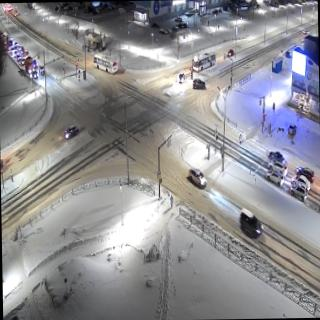large-vehicle: (190, 49, 216, 72), (92, 53, 118, 75), (24, 57, 34, 74)
small-vehicle: (238, 208, 264, 239), (188, 168, 207, 190), (269, 156, 286, 178), (266, 170, 283, 190), (296, 165, 315, 182), (291, 174, 311, 190), (290, 184, 306, 200), (64, 123, 79, 139), (270, 148, 284, 164), (192, 79, 206, 91), (160, 26, 168, 38), (177, 23, 189, 31), (226, 49, 234, 60), (38, 64, 45, 76), (177, 73, 185, 83), (31, 69, 38, 80), (23, 48, 30, 59), (172, 15, 182, 22), (32, 58, 38, 68), (14, 52, 20, 61), (19, 56, 25, 64), (10, 48, 14, 56), (19, 45, 22, 55)
